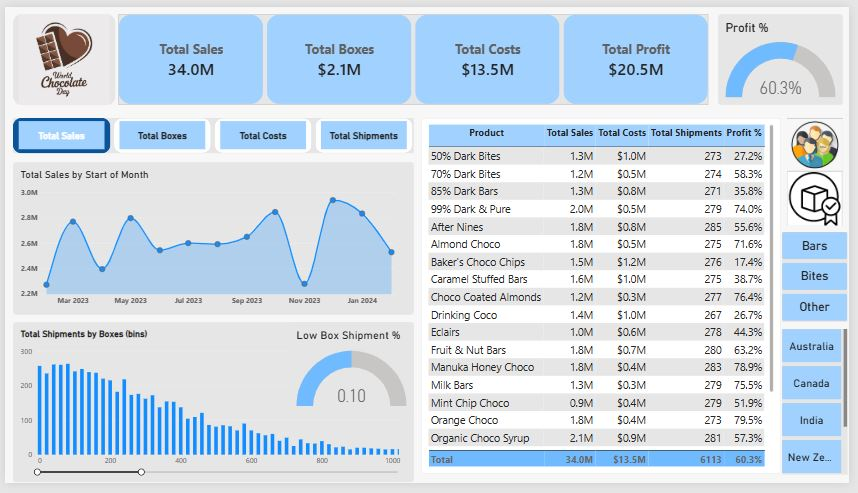

The page's visual inventory and layout, read from the dashboard file:
{"tool":"powerbi","page":{"name":"Page 1","canvas":[1920,1080],"ordinal":0},"visuals":[{"type":"cardVisual","fields":{"Data":["_Measures.Total Sales","_Measures.Total Boxes","_Measures.Total Costs","_Measures.Total Profit"]},"box":[257.8,15.6,1342.2,206.7],"z":1000},{"type":"gauge","fields":{"Y":["_Measures.Profit %"]},"box":[1620,15.6,284.4,206.7],"z":2000},{"type":"image","box":[17.8,15.6,233.3,206.7],"z":3000},{"type":"lineChart","fields":{"Category":["calendar.Start of Month"],"Y":["_Measures.Total Sales"]},"box":[17.8,353.3,911.1,346.7],"z":4000},{"type":"advancedSlicerVisual","fields":{"Values":["KPI's Selector 2.KPI's Selector"]},"box":[17.8,253.3,911.1,80],"z":5000},{"type":"columnChart","fields":{"Category":["shipments.Boxes (bins)"],"Y":["_Measures.Total Shipments"]},"box":[17.8,715.6,911.1,364.4],"z":6000},{"type":"gauge","fields":{"Y":["_Measures.Low Box Shipment %"]},"box":[644.4,715.6,284.4,213.3],"z":7000},{"type":"tableEx","title":"Products Details","fields":{"Values":["products.Product","_Measures.Total Sales","_Measures.Total Costs","_Measures.Total Shipments","_Measures.Profit %"]},"box":[944.4,253.3,817.8,808.9],"z":8000},{"type":"image","title":"People img","box":[1777.8,253.3,126.7,122.2],"z":9000},{"type":"image","title":"Product img","box":[1777.8,375.6,126.7,122.2],"z":10000},{"type":"advancedSlicerVisual","fields":{"Values":["products.Category"]},"box":[1766.7,511.1,148.9,204.4],"z":11001},{"type":"advancedSlicerVisual","fields":{"Values":["locations.Geo"]},"box":[1766.7,731.1,148.9,331.1],"z":11002}]}

Visuals, with their boxes in screenshot pixels (x1, y1, x2, y2), scaled from the page's 1920x1080 canvas onto the 858x493 screenshot:
cardVisual - _Measures.Total Sales x _Measures.Total Boxes: 115 7 715 101
gauge - _Measures.Profit %: 724 7 851 101
image: 8 7 112 101
lineChart - calendar.Start of Month x _Measures.Total Sales: 8 161 415 320
advancedSlicerVisual - KPI's Selector 2.KPI's Selector: 8 116 415 152
columnChart - shipments.Boxes (bins) x _Measures.Total Shipments: 8 327 415 492
gauge - _Measures.Low Box Shipment %: 288 327 415 424
"Products Details" tableEx: 422 116 787 485
"People img" image: 794 116 851 171
"Product img" image: 794 171 851 227
advancedSlicerVisual - products.Category: 789 233 856 327
advancedSlicerVisual - locations.Geo: 789 334 856 485
